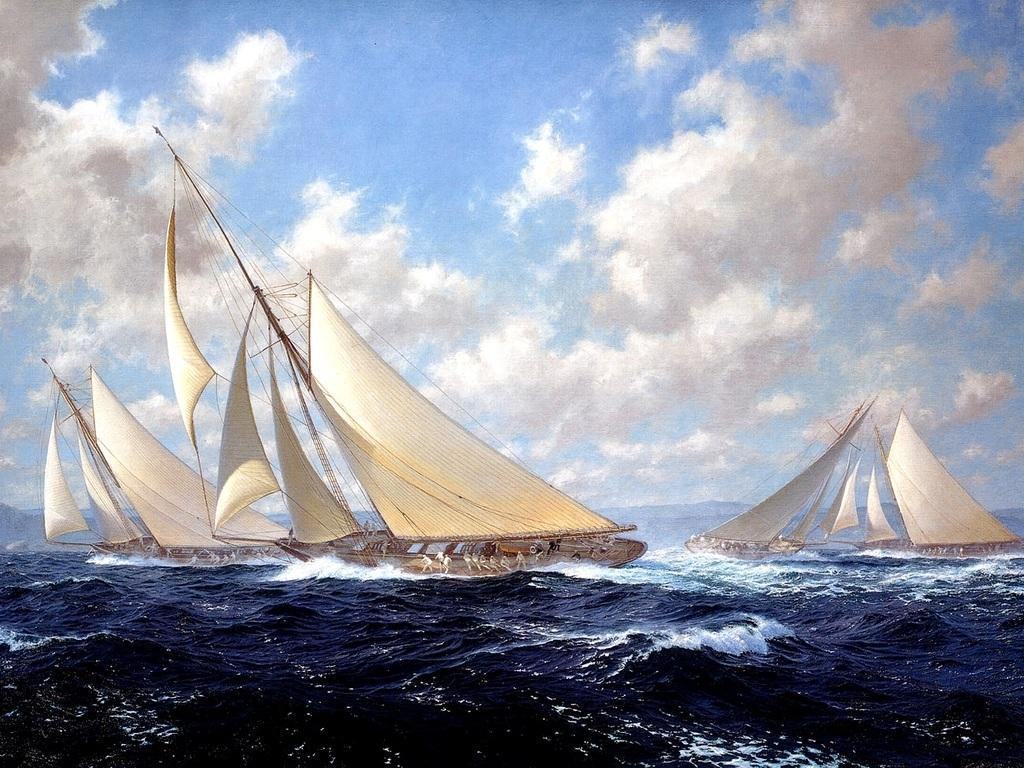fanchuan: (162, 134, 649, 610), (680, 385, 1022, 570), (38, 361, 241, 580)
